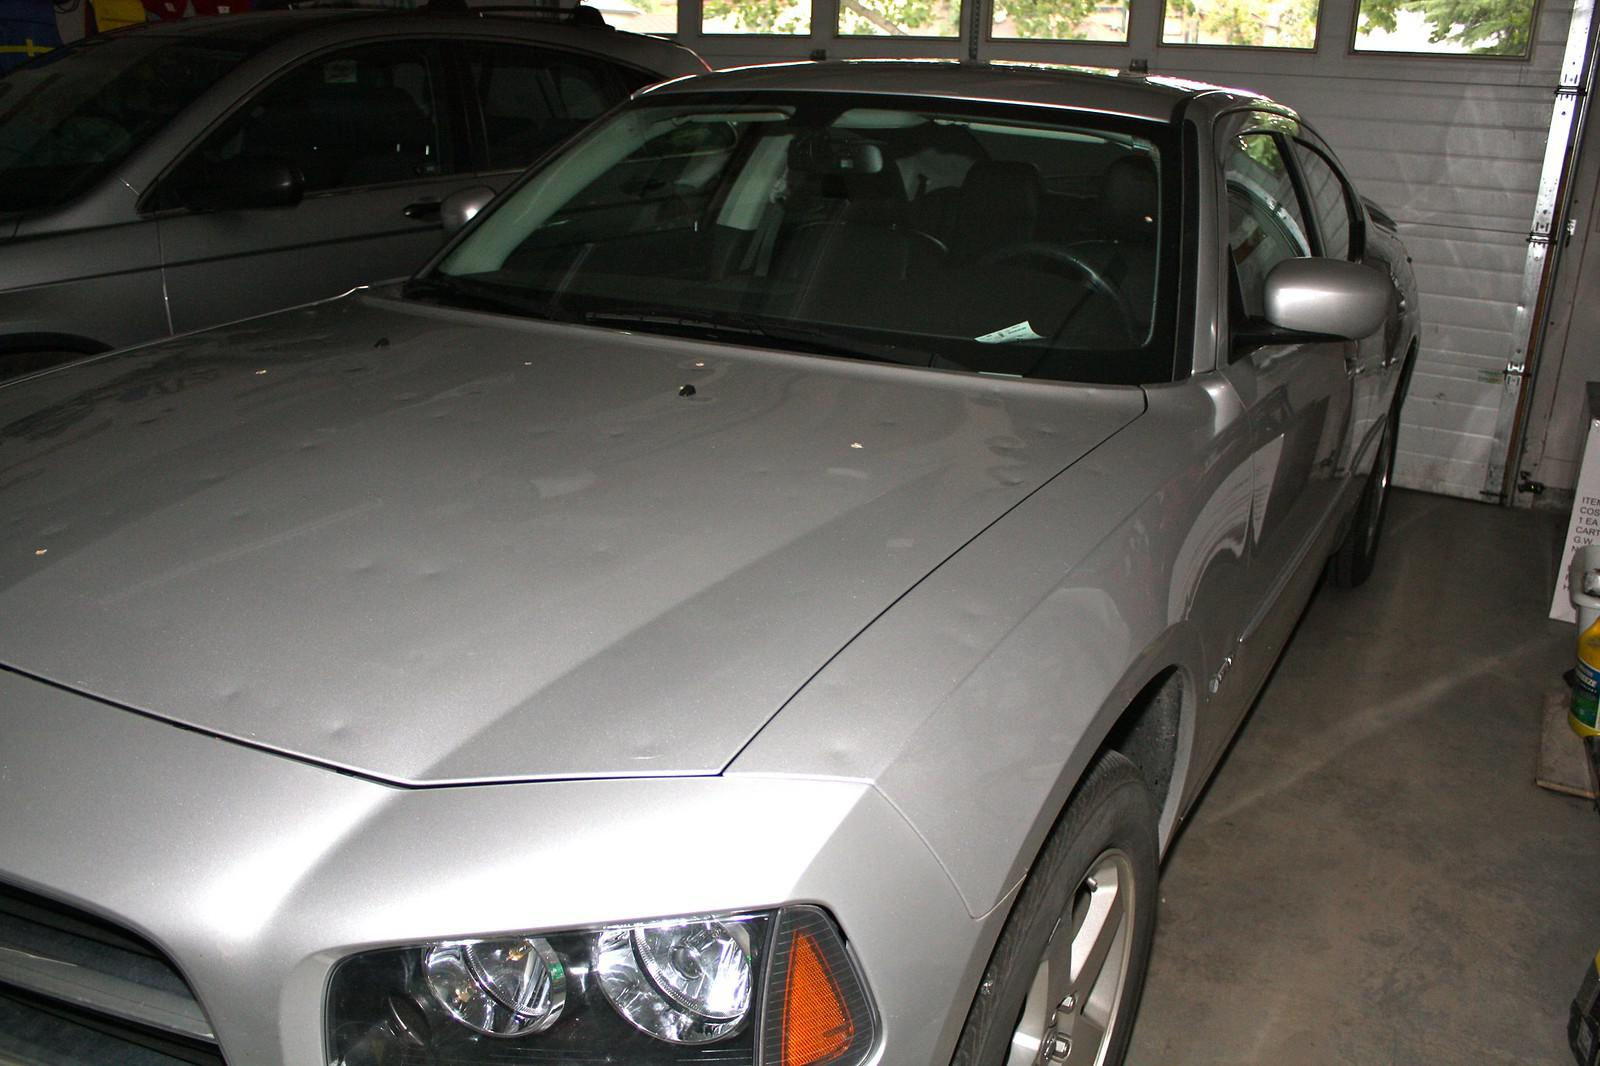bonnet-dent: (0, 303, 1017, 753)
